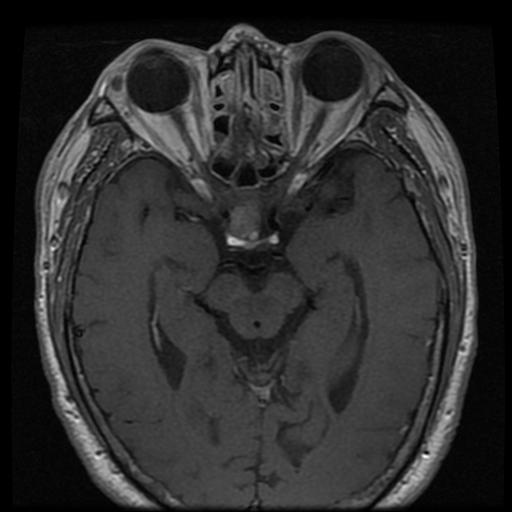Pituirity_tumour: (229, 201, 261, 238)
